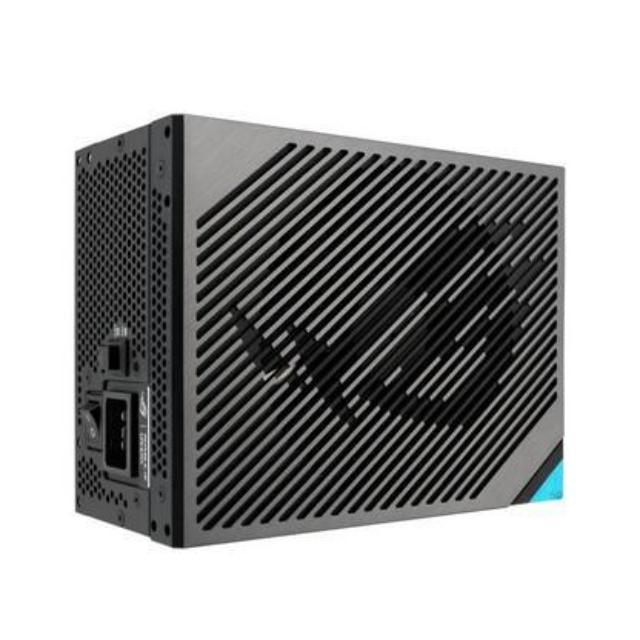PSU: (62, 110, 570, 562)
